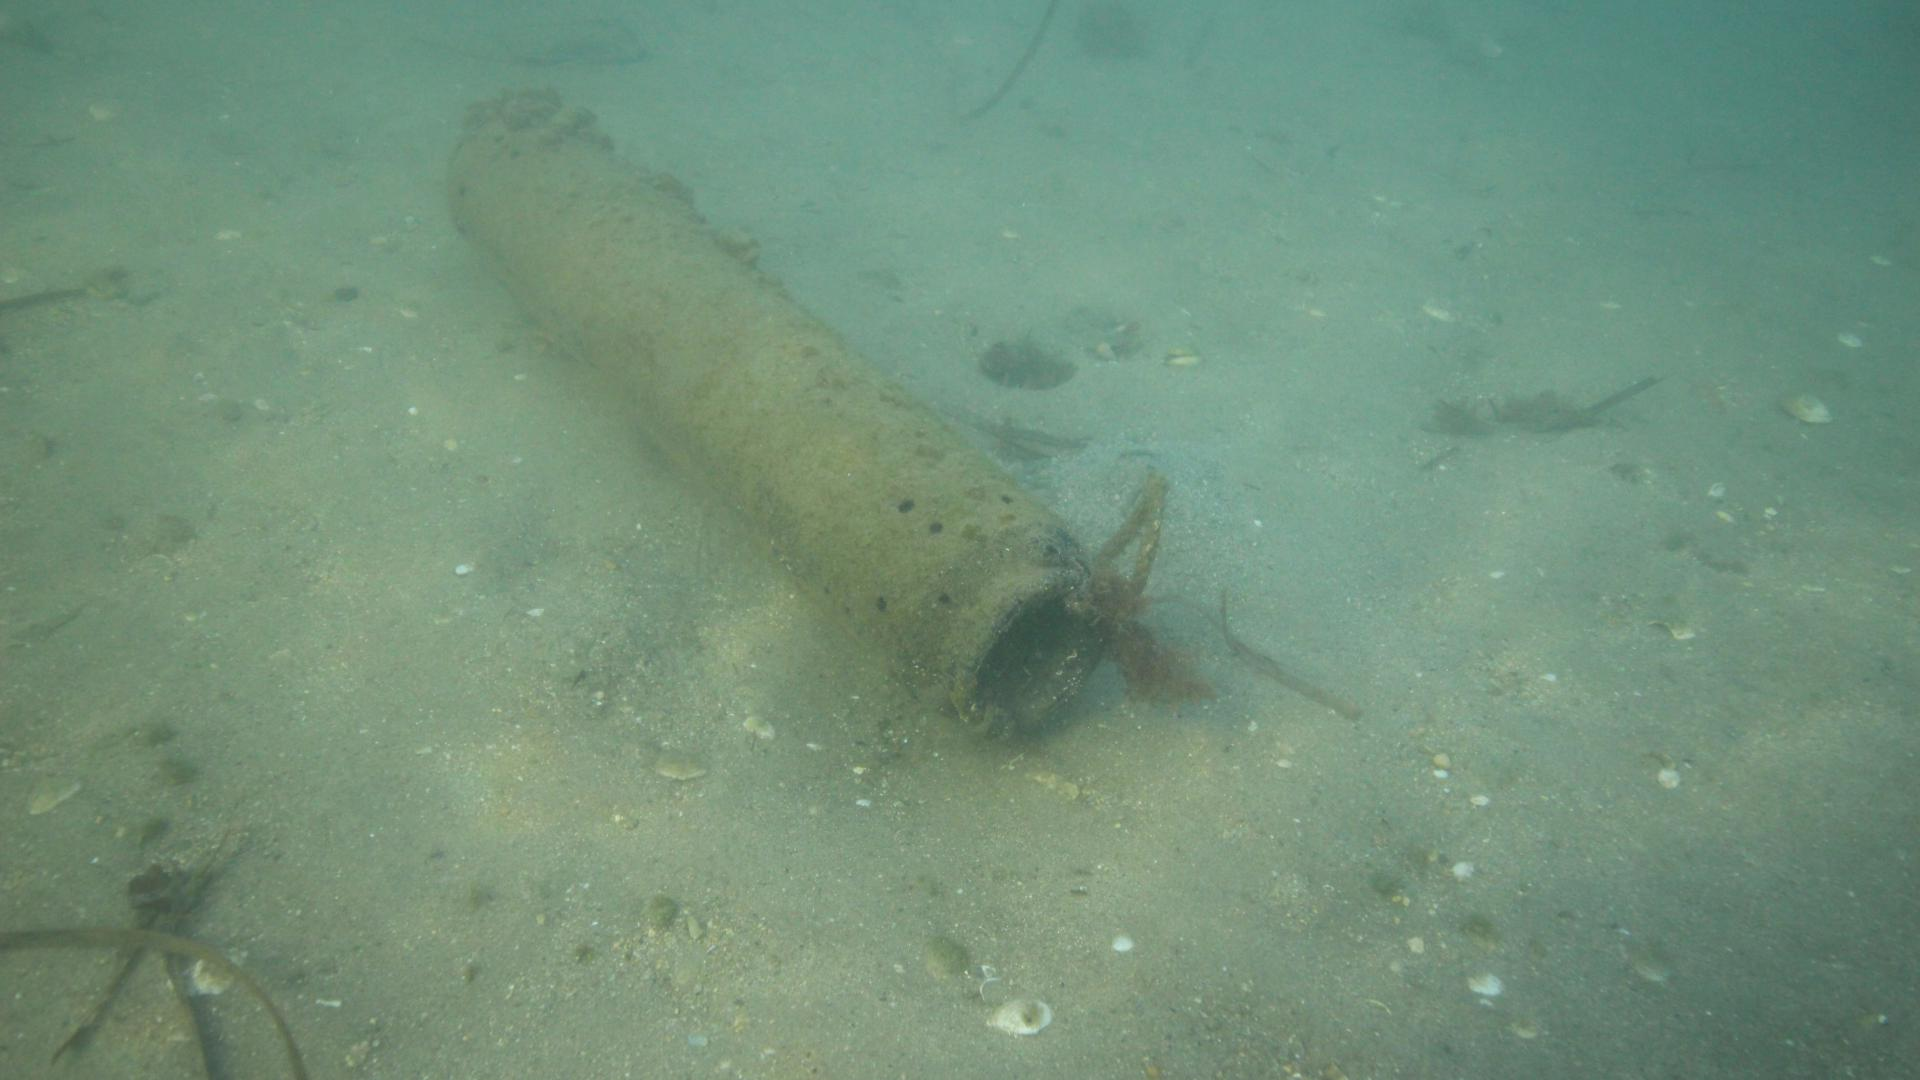eel fish trap: (440, 99, 1110, 740)
rope: (1095, 471, 1160, 601)
